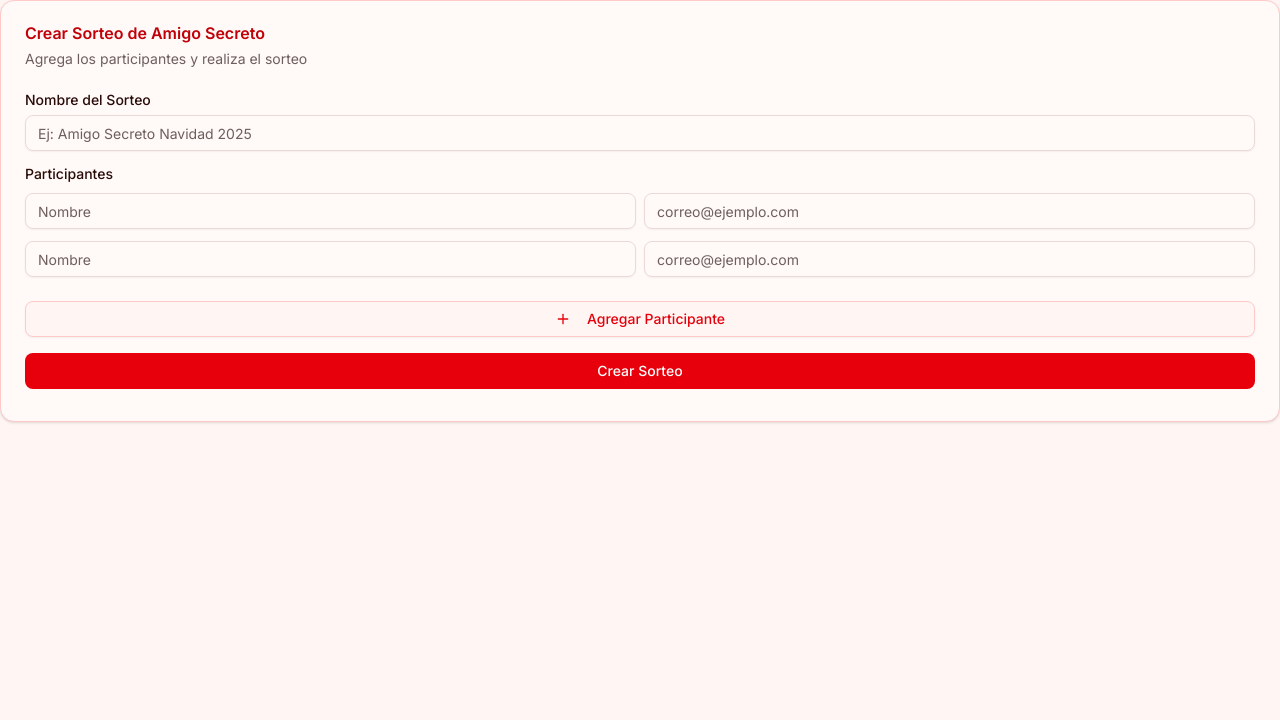
Test case: SecretSantaForm Component › debería agregar un nuevo participante al hacer clic
What coordinates should you click on to do the following:
click the button "Agregar Participante"
I would click on:
 (640, 319)
Its box is x1=25 y1=301 x2=1255 y2=337.
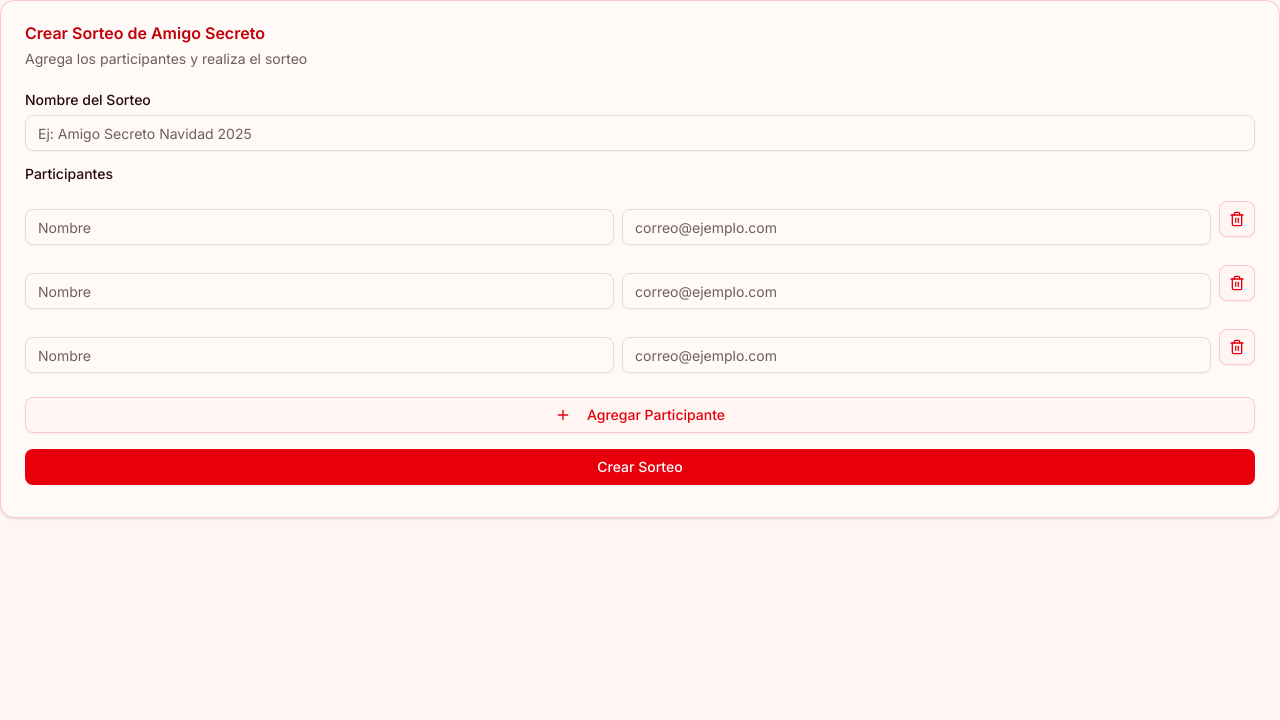
Now the number of fields with placeholder "Nombre" is 3, box x1=25 y1=209 x2=614 y2=245; x1=25 y1=273 x2=614 y2=309; x1=25 y1=337 x2=614 y2=373
